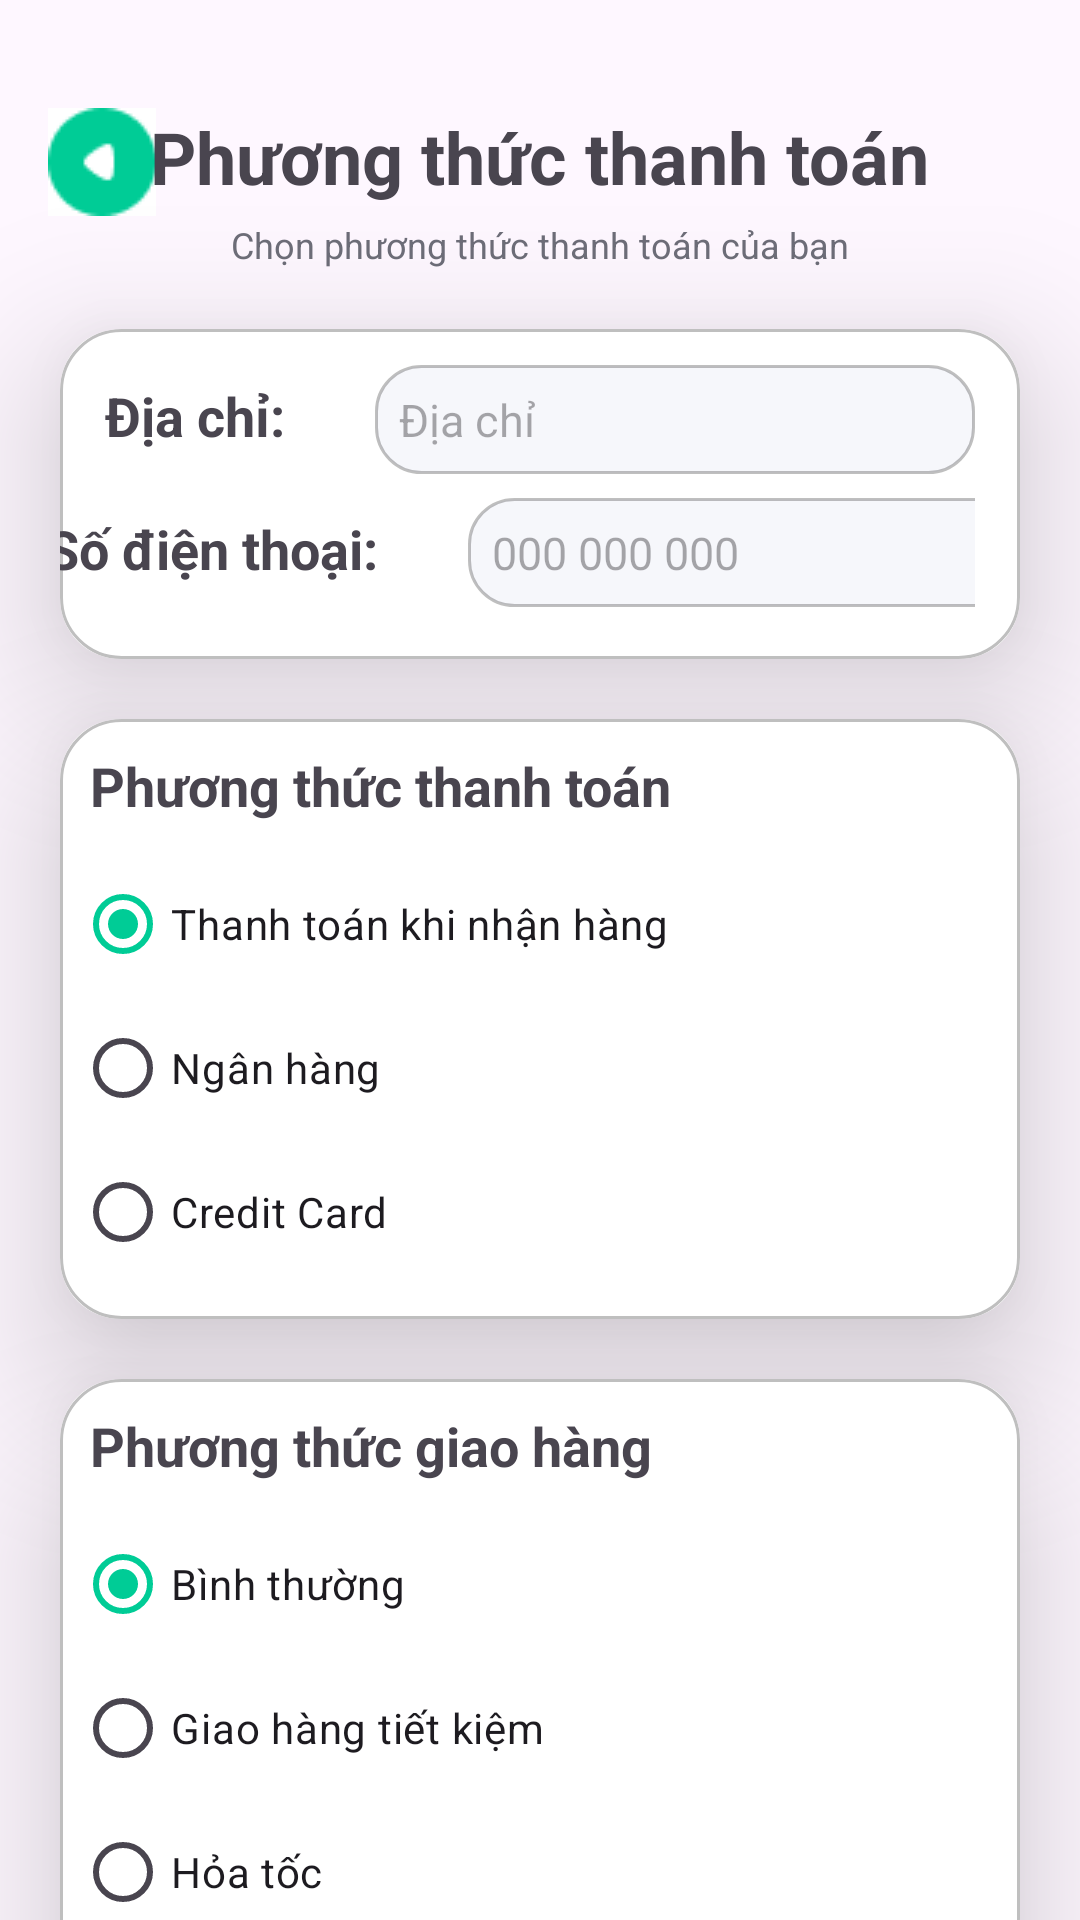

Screen size 1080w x 1920h. Icon name, then its box in pixels as (x1, y1, x2, y2):
back: (48, 108, 156, 216)
